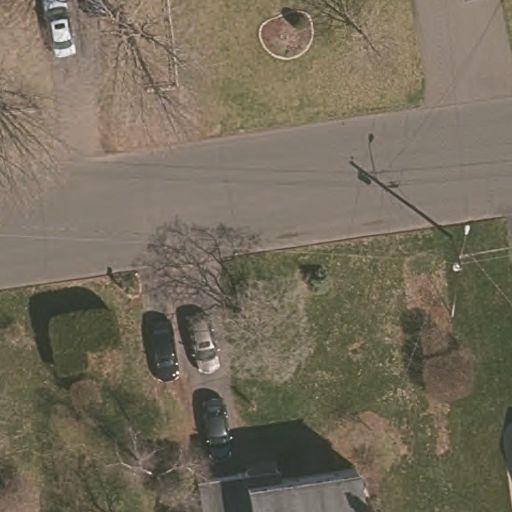DT: (447, 250, 473, 275)
